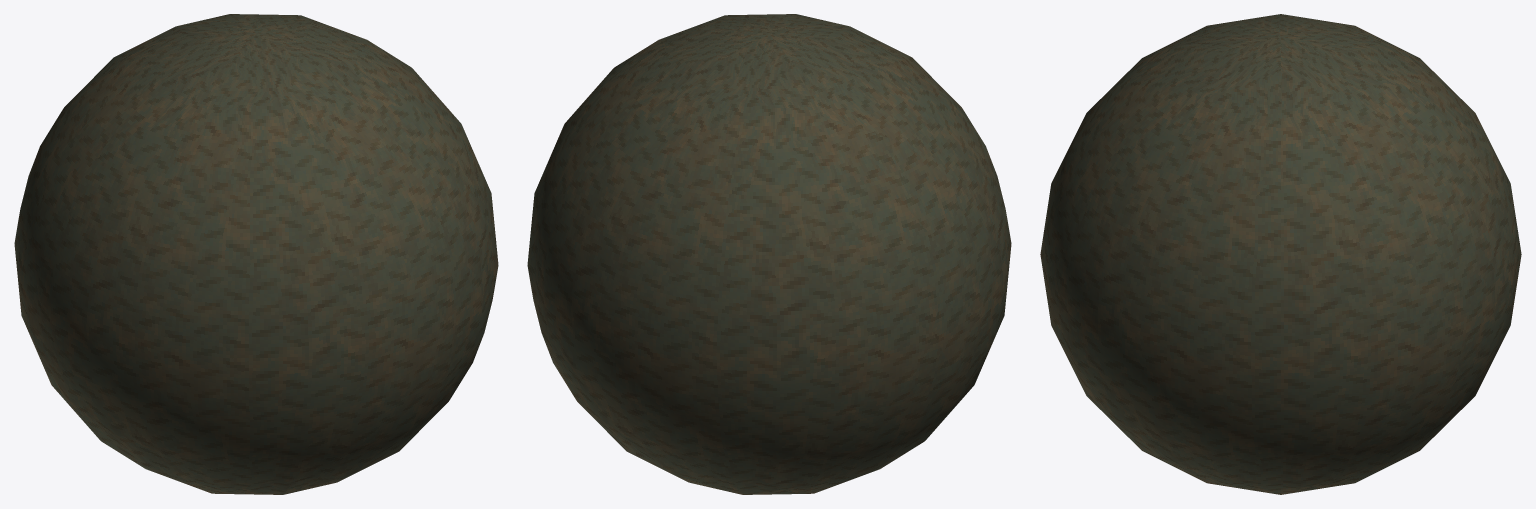
3 renders of one model, left to right at view 1: azimuth 30°, elevation 25°; view 2: azimuth 150°, elevation 25°; view 3: azimuth 270°, elevation 25°, orthographic.
Visible parts, largest first — view 1: GeoSphere001; view 2: GeoSphere001; view 3: GeoSphere001.
Part boxes in pixels (left/top/right/bottom): GeoSphere001: left=14, top=14, right=498, bottom=494; GeoSphere001: left=527, top=14, right=1011, bottom=494; GeoSphere001: left=1040, top=14, right=1521, bottom=494.
Bounding box in the file's own units: 2 × 2 × 2.
Materials: 1 (1 with a texture image).
